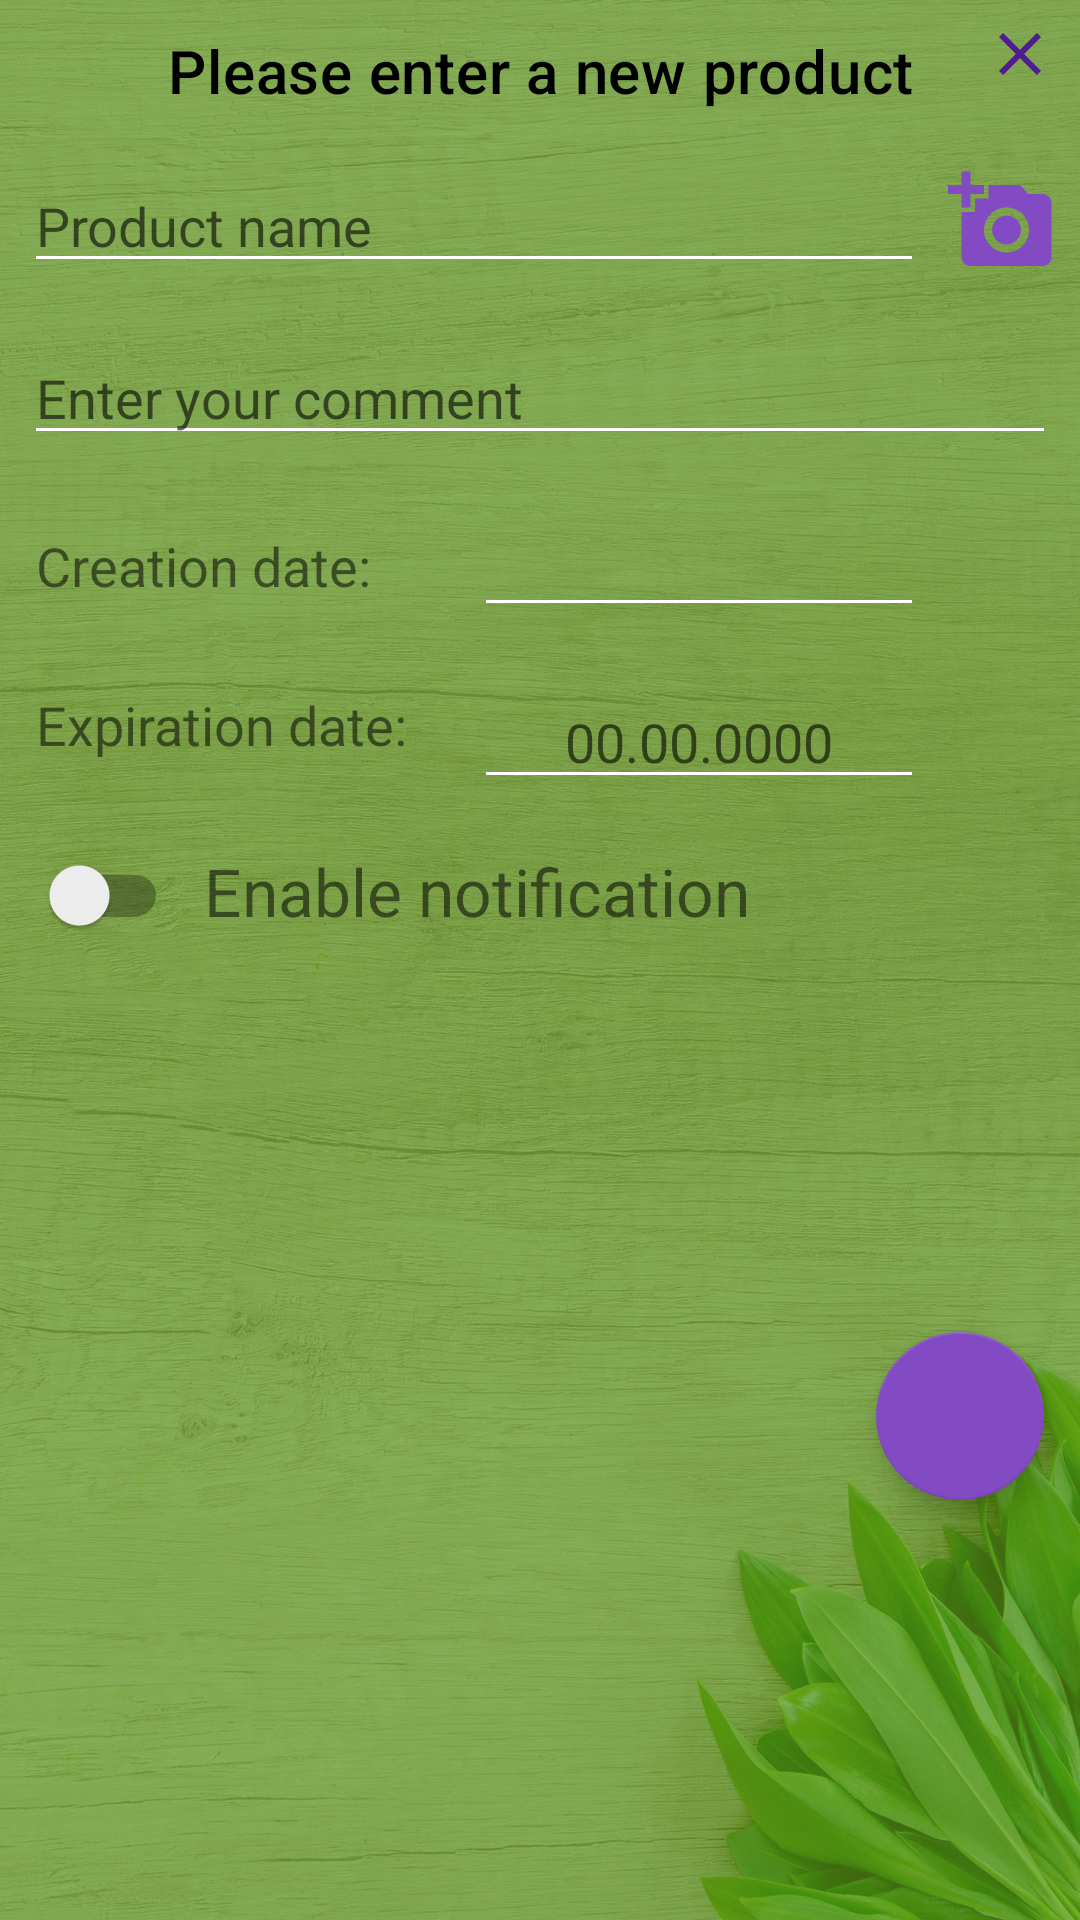

Screen size 1080 x 1920. Icon name, then its box in pixels as (x1, y1, x2, y2):
add photo: (948, 171, 1052, 266)
close: (999, 33, 1041, 75)
